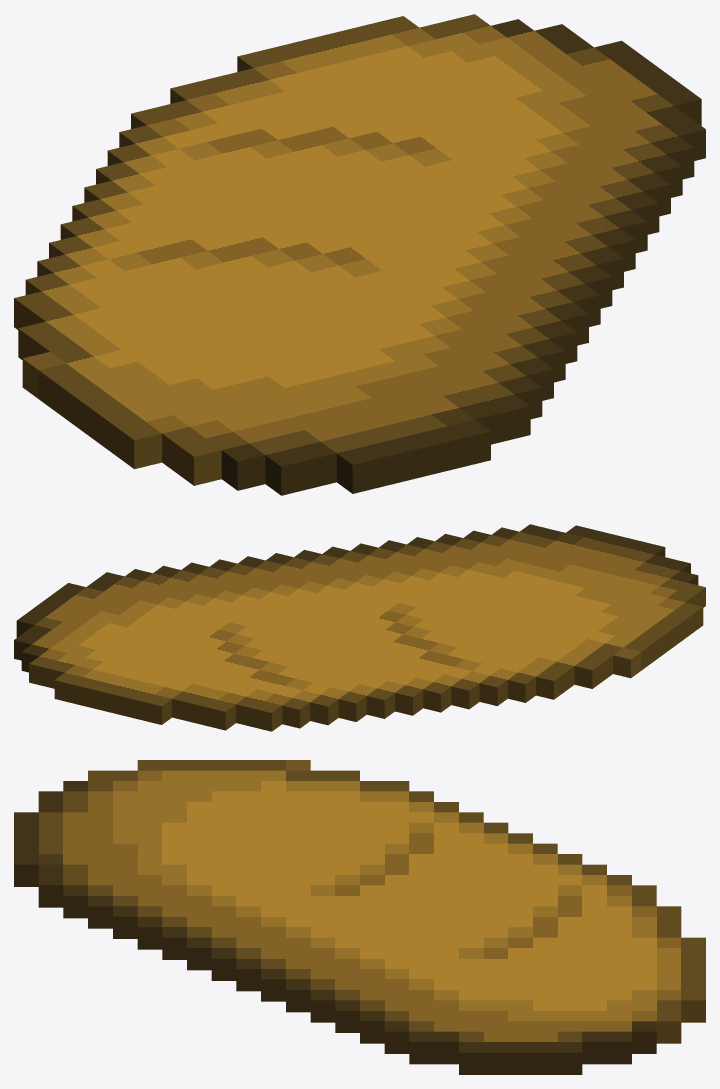
File: SM_HealthDrops_Bread_Minecraft.fbx
3 renders of one model, top to bottom at view 1: azimuth 30°, elevation 25°; view 2: azimuth 150°, elevation 25°; view 3: azimuth 270°, elevation 25°, orthographic. The views are drawn at different scales.
Parts seen in each view (by area): view 1: T_Bread_Minecraft_3; view 2: T_Bread_Minecraft_3; view 3: T_Bread_Minecraft_3.
Boxes of the visible parts, left/top/right/bottom form: T_Bread_Minecraft_3: left=14, top=14, right=705, bottom=495; T_Bread_Minecraft_3: left=14, top=524, right=705, bottom=731; T_Bread_Minecraft_3: left=14, top=760, right=705, bottom=1074.
Size of the model in its own units: 52.17 by 1.86 by 52.17.
